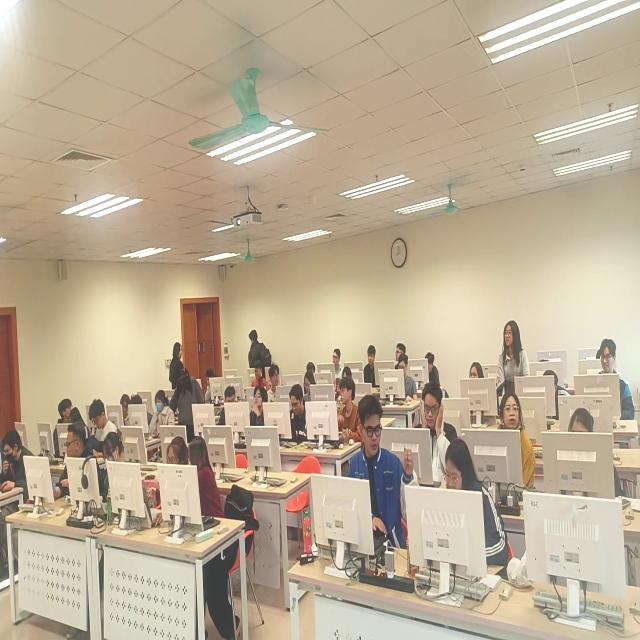raise_hand: (403, 378, 457, 479)
raise_head: (487, 396, 530, 506), (592, 339, 633, 431), (239, 384, 273, 439), (460, 357, 491, 410), (362, 341, 381, 399), (501, 321, 521, 365), (330, 347, 343, 381)
stand: (498, 321, 527, 419), (177, 362, 201, 444), (247, 323, 276, 388), (168, 340, 187, 401)
using_computer: (428, 441, 499, 568), (33, 421, 100, 523), (563, 411, 616, 509), (91, 432, 134, 525), (409, 376, 448, 476), (1, 425, 38, 512), (534, 368, 577, 429), (275, 386, 312, 453), (158, 437, 191, 508), (141, 389, 176, 448), (385, 361, 422, 410), (80, 403, 114, 452), (411, 349, 445, 393), (107, 393, 137, 439), (244, 359, 271, 398), (298, 373, 321, 411), (196, 371, 219, 409)
